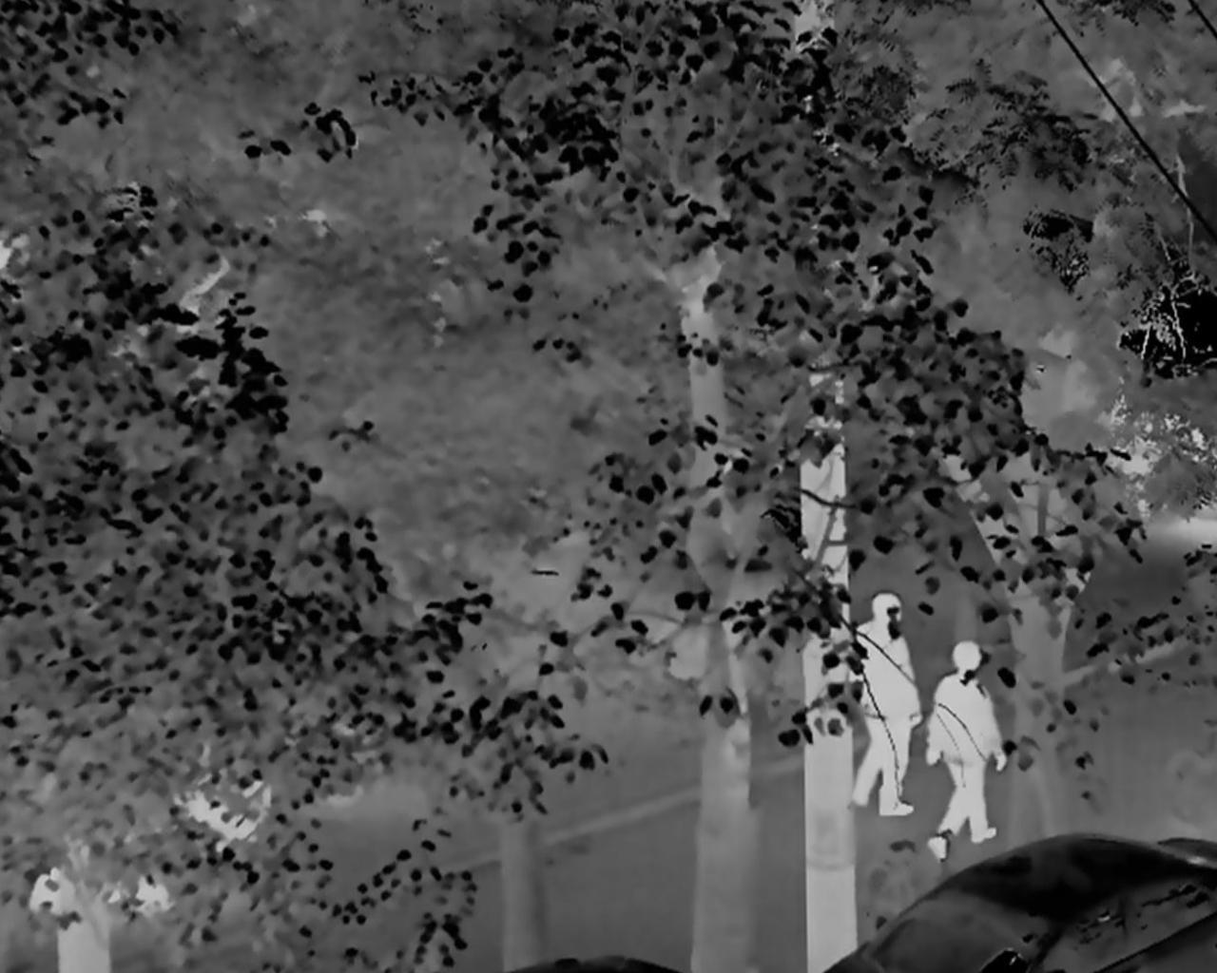person: (923, 639, 1006, 859), (855, 591, 920, 820)
